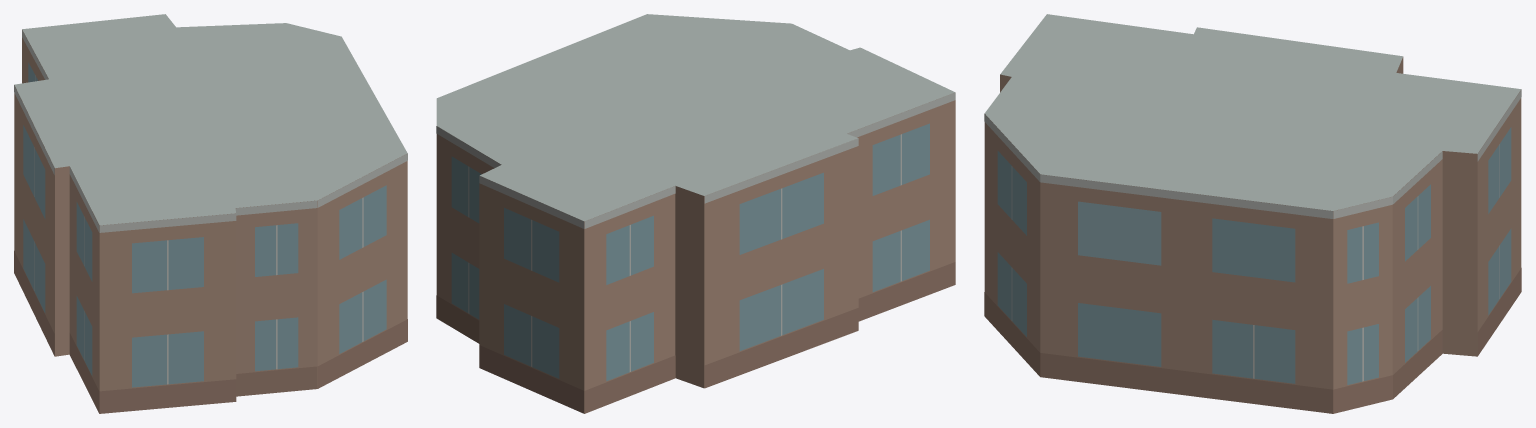
Rendered from survey-upis-32651588.glb.
3 renders of one model, left to right at view 1: azimuth 30°, elevation 25°; view 2: azimuth 150°, elevation 25°; view 3: azimuth 270°, elevation 25°, orthographic. The views are drawn at different scales.
Parts seen in each view (by area): view 1: survey-upis-32651588.tmp; view 2: survey-upis-32651588.tmp; view 3: survey-upis-32651588.tmp.
Part boxes in pixels (box(x1,y1,x2,y2)): survey-upis-32651588.tmp: box(14, 14, 407, 413); survey-upis-32651588.tmp: box(436, 14, 955, 413); survey-upis-32651588.tmp: box(984, 14, 1521, 413).
Bounding box in the file's own units: 12.72 × 6.1 × 14.65.
